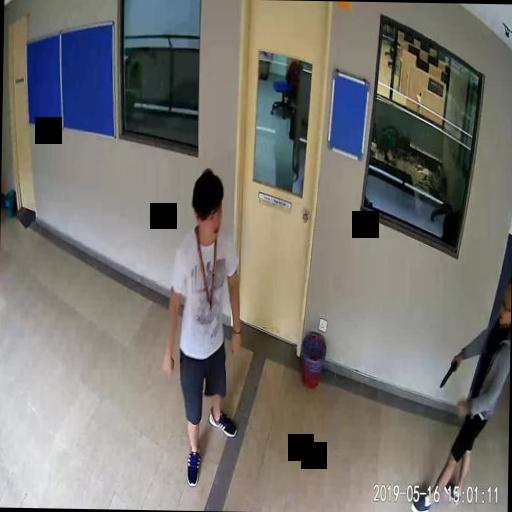Handgun: (438, 356, 458, 388)
